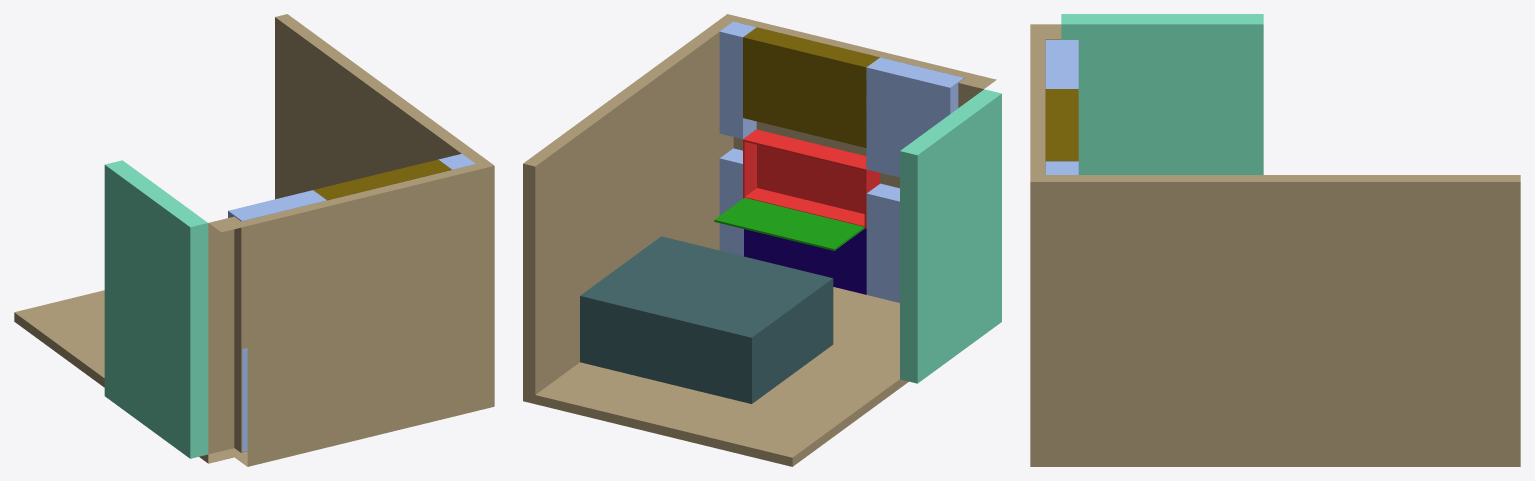
File: buro_01.fbx
3 renders of one model, left to right at view 1: azimuth 30°, elevation 25°; view 2: azimuth 150°, elevation 25°; view 3: azimuth 270°, elevation 25°, orthographic. The views are drawn at different scales.
Parts seen in each view (by area): view 1: Box001, Box002, Box019, Box008, Box003; view 2: Box001, Box006, Box002, Box019, Box009, Box008, Box013, tavle, Box003, Box014, Box015; view 3: Box001, Box002, Box019, Box008.
Part boxes in pixels (<box>): Box001: <box>14,14,494,466</box>; Box002: <box>104,160,208,458</box>; Box019: <box>313,159,451,200</box>; Box008: <box>228,190,326,221</box>; Box003: <box>242,348,247,451</box>; Box001: <box>523,14,996,466</box>; Box006: <box>580,236,833,403</box>; Box002: <box>900,89,1001,383</box>; Box019: <box>743,27,879,147</box>; Box009: <box>743,129,879,228</box>; Box008: <box>866,57,963,177</box>; Box013: <box>743,228,866,294</box>; tavle: <box>714,197,864,250</box>; Box003: <box>866,183,899,302</box>; Box014: <box>719,21,756,139</box>; Box015: <box>719,148,743,256</box>; Box001: <box>1030,24,1520,466</box>; Box002: <box>1061,14,1263,174</box>; Box019: <box>1045,89,1078,161</box>; Box008: <box>1045,40,1078,88</box>.
Bounding box in the file's own units: 128 × 102 × 158.
